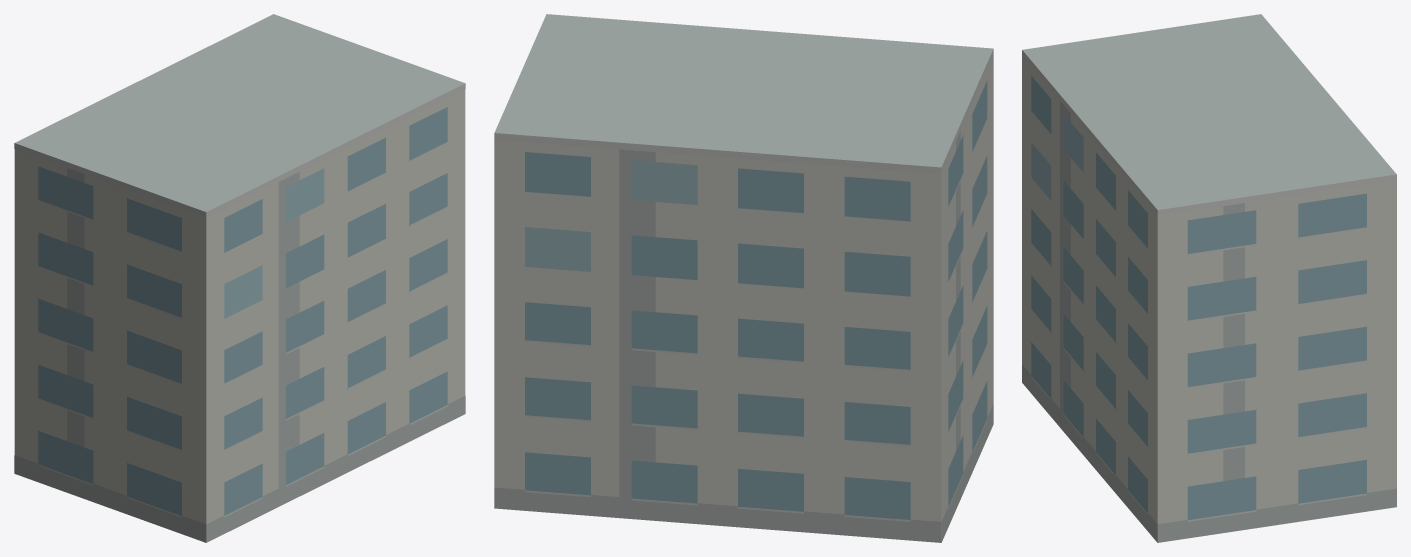
The model's file is survey-upis-32857435.glb.
3 views of the same model, side by side, from view 1: azimuth 30°, elevation 25°; view 2: azimuth 150°, elevation 25°; view 3: azimuth 270°, elevation 25° (orthographic). The views are drawn at different scales.
Visible parts, largest first — view 1: survey-upis-32857435.tmp; view 2: survey-upis-32857435.tmp; view 3: survey-upis-32857435.tmp.
Boxes of the visible parts, bbox=[...] form: survey-upis-32857435.tmp: bbox=[14, 14, 465, 542]; survey-upis-32857435.tmp: bbox=[494, 14, 993, 542]; survey-upis-32857435.tmp: bbox=[1022, 14, 1396, 542].
Size of the model in its own units: 17.07 by 13.5 by 13.79.
